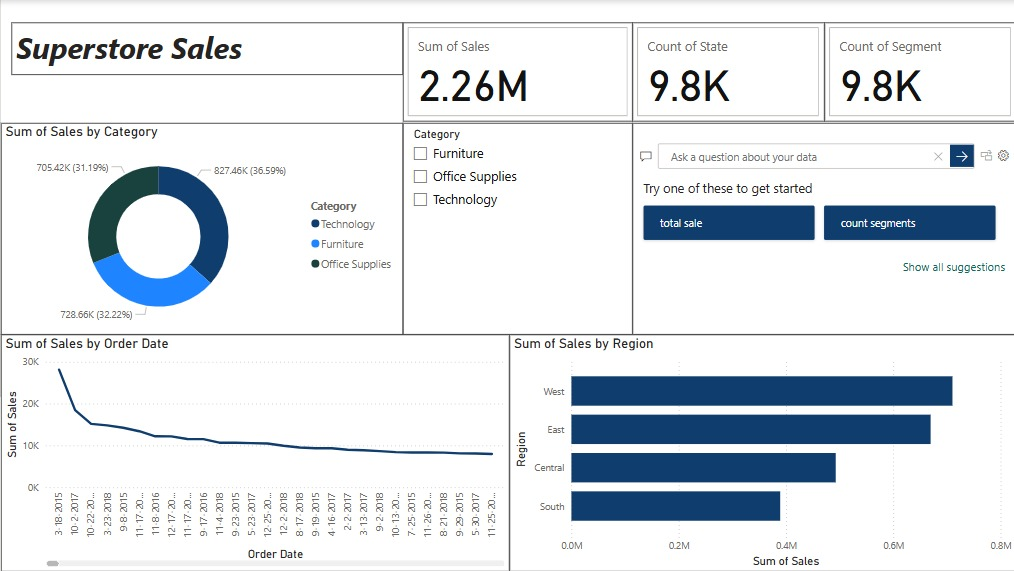

Layout of this report page (visuals, bound fields, positions):
{"tool":"powerbi","page":{"name":"Page 1","canvas":[1280,720],"ordinal":0},"visuals":[{"type":"lineChart","fields":{"Y":["Sum(Superstoressales.Sales)"],"Category":["Superstoressales.Order Date"]},"box":[0,421.4,640.6,298.6],"z":0},{"type":"barChart","fields":{"Y":["Sum(Superstoressales.Sales)"],"Category":["Superstoressales.Region"]},"box":[640.6,421.4,638.7,298.6],"z":1},{"type":"donutChart","fields":{"Y":["Sum(Superstoressales.Sales)"],"Category":["Superstoressales.Category"]},"box":[0,155,506.5,266.5],"z":2},{"type":"slicer","fields":{"Values":["Superstoressales.Category"]},"box":[506.5,155,289.1,266.5],"z":4},{"type":"textbox","box":[13.2,28.3,493.2,66.1],"z":5},{"type":"qnaVisual","box":[795.6,155,483.8,266.5],"z":6},{"type":"cardVisual","fields":{"Data":["Sum(Superstoressales.Sales)"]},"box":[506.5,28.3,289.1,124.7],"z":7},{"type":"cardVisual","fields":{"Data":["CountNonNull(Superstoressales.State)"]},"box":[795.6,28.3,241.9,124.7],"z":8},{"type":"cardVisual","fields":{"Data":["CountNonNull(Superstoressales.Segment)"]},"box":[1037.5,28.3,241.9,124.7],"z":9}]}

Visuals, with their boxes in screenshot pixels (x1, y1, x2, y2), scaled from the page's 1280x720 canvas onto the 1014x571 screenshot:
lineChart - Sum(Superstoressales.Sales) x Superstoressales.Order Date: <region>0, 334, 507, 570</region>
barChart - Sum(Superstoressales.Sales) x Superstoressales.Region: <region>507, 334, 1013, 570</region>
donutChart - Sum(Superstoressales.Sales) x Superstoressales.Category: <region>0, 123, 401, 334</region>
slicer - Superstoressales.Category: <region>401, 123, 630, 334</region>
textbox: <region>10, 22, 401, 75</region>
qnaVisual: <region>630, 123, 1013, 334</region>
cardVisual - Sum(Superstoressales.Sales): <region>401, 22, 630, 121</region>
cardVisual - CountNonNull(Superstoressales.State): <region>630, 22, 822, 121</region>
cardVisual - CountNonNull(Superstoressales.Segment): <region>822, 22, 1013, 121</region>
